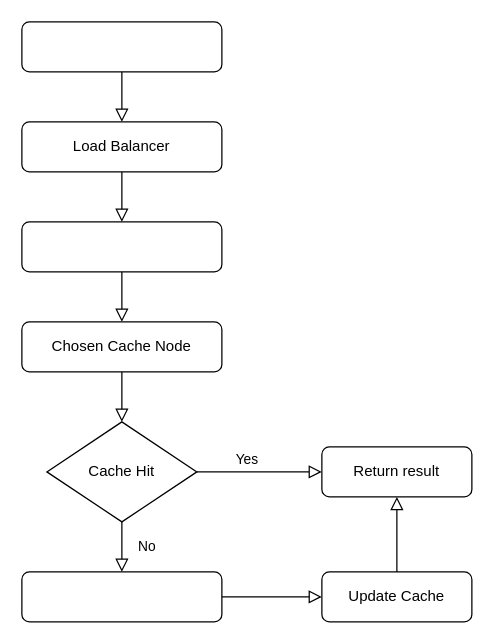
Image size: 494x644. Some labels were removed from this diagram. Each missing label, with the box of its shape:
Client: (21, 21, 222, 72)
Consistent Hash Ring: (21, 221, 222, 272)
Fetch from DB: (21, 571, 222, 622)
